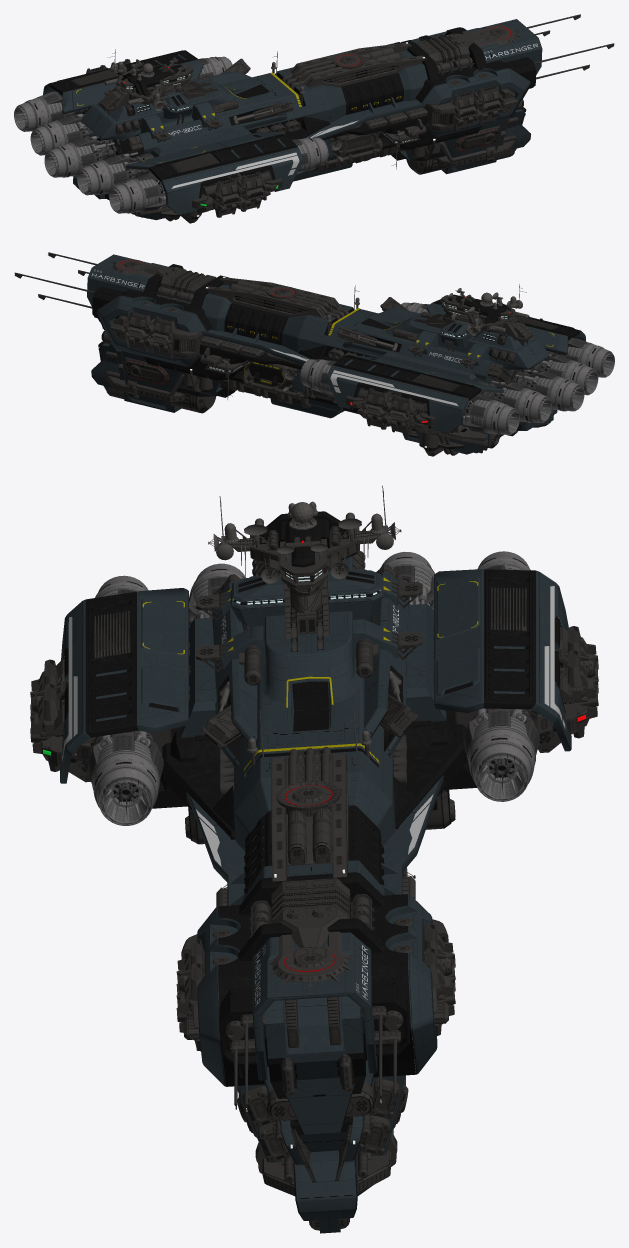
The model's file is harbinger.glb.
3 renders of one model, top to bottom at view 1: azimuth 30°, elevation 25°; view 2: azimuth 150°, elevation 25°; view 3: azimuth 270°, elevation 25°, orthographic. The views are drawn at different scales.
Parts seen in each view (by area): view 1: HarbingerHull_panels_0, HarbingerHull_techDark_0, HarbingerHull_panelsDark_0, HarbingerHull_tech_0, HarbingerHull_engine_0, HarbingerHull_engineDark_0, HarbingerHull_techLight_0, HarbingerHull_whiteDecal_0; view 2: HarbingerHull_panels_0, HarbingerHull_techDark_0, HarbingerHull_panelsDark_0, HarbingerHull_tech_0, HarbingerHull_engine_0, HarbingerHull_engineDark_0, HarbingerHull_techLight_0, HarbingerHull_whiteDecal_0, HarbingerHull_yellowDecal_0; view 3: HarbingerHull_panels_0, HarbingerHull_panelsDark_0, HarbingerHull_techDark_0, HarbingerHull_tech_0, HarbingerHull_engine_0, HarbingerHull_techLight_0, HarbingerHull_engineDark_0, HarbingerHull_whiteDecal_0.
Boxes of the visible parts, x1,y1,x2,y2 form: HarbingerHull_panels_0: [43, 19, 542, 220]; HarbingerHull_techDark_0: [71, 14, 614, 223]; HarbingerHull_panelsDark_0: [49, 27, 536, 210]; HarbingerHull_tech_0: [86, 25, 522, 217]; HarbingerHull_engine_0: [14, 56, 328, 213]; HarbingerHull_engineDark_0: [17, 58, 328, 212]; HarbingerHull_techLight_0: [104, 49, 404, 212]; HarbingerHull_whiteDecal_0: [171, 120, 358, 188]; HarbingerHull_panels_0: [87, 254, 585, 454]; HarbingerHull_techDark_0: [14, 252, 558, 456]; HarbingerHull_panelsDark_0: [92, 264, 580, 438]; HarbingerHull_tech_0: [107, 259, 542, 435]; HarbingerHull_engine_0: [300, 302, 614, 434]; HarbingerHull_engineDark_0: [300, 304, 611, 434]; HarbingerHull_techLight_0: [222, 284, 528, 442]; HarbingerHull_whiteDecal_0: [270, 348, 458, 406]; HarbingerHull_yellowDecal_0: [227, 308, 554, 385]; HarbingerHull_panels_0: [60, 556, 571, 1233]; HarbingerHull_panelsDark_0: [60, 511, 571, 1135]; HarbingerHull_techDark_0: [31, 526, 597, 1230]; HarbingerHull_tech_0: [30, 521, 598, 1133]; HarbingerHull_engine_0: [91, 551, 535, 825]; HarbingerHull_techLight_0: [208, 485, 415, 888]; HarbingerHull_engineDark_0: [88, 565, 539, 824]; HarbingerHull_whiteDecal_0: [62, 586, 565, 866].
Bounding box in the file's own units: 307 × 102 × 138.
15 materials, 12 textured.
